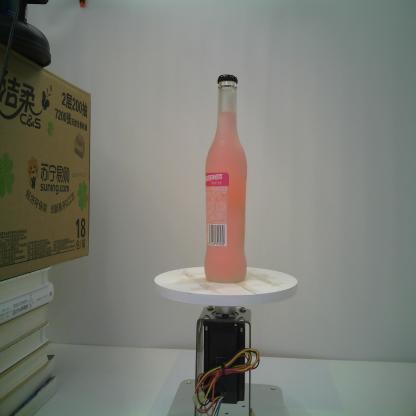Alcohol: (200, 74, 248, 284)
